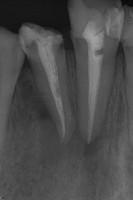Furcation Involvement: (29, 92, 101, 165)
